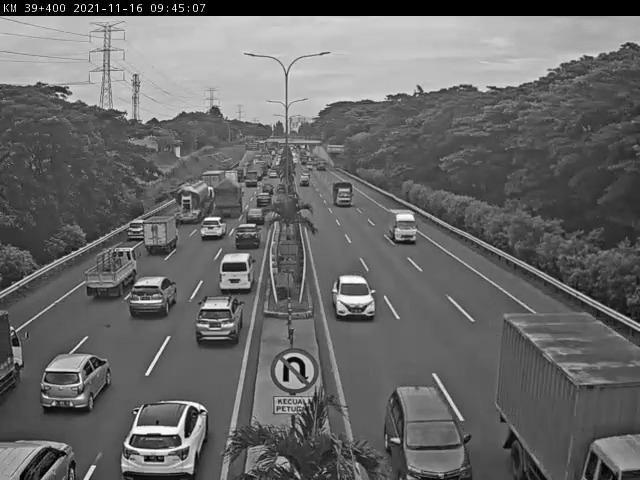car: (386, 386, 473, 480), (120, 401, 212, 480), (40, 353, 113, 411), (196, 299, 243, 347), (126, 275, 177, 317), (331, 272, 375, 318), (217, 255, 254, 293), (234, 225, 260, 249), (200, 218, 226, 240), (127, 220, 147, 243), (244, 209, 266, 227)
small truck: (85, 246, 141, 298), (143, 216, 178, 255), (387, 208, 420, 243)
truck-l-: (210, 182, 243, 222)
truck-m-: (502, 313, 640, 480)
truck-xl-: (172, 181, 212, 223)
